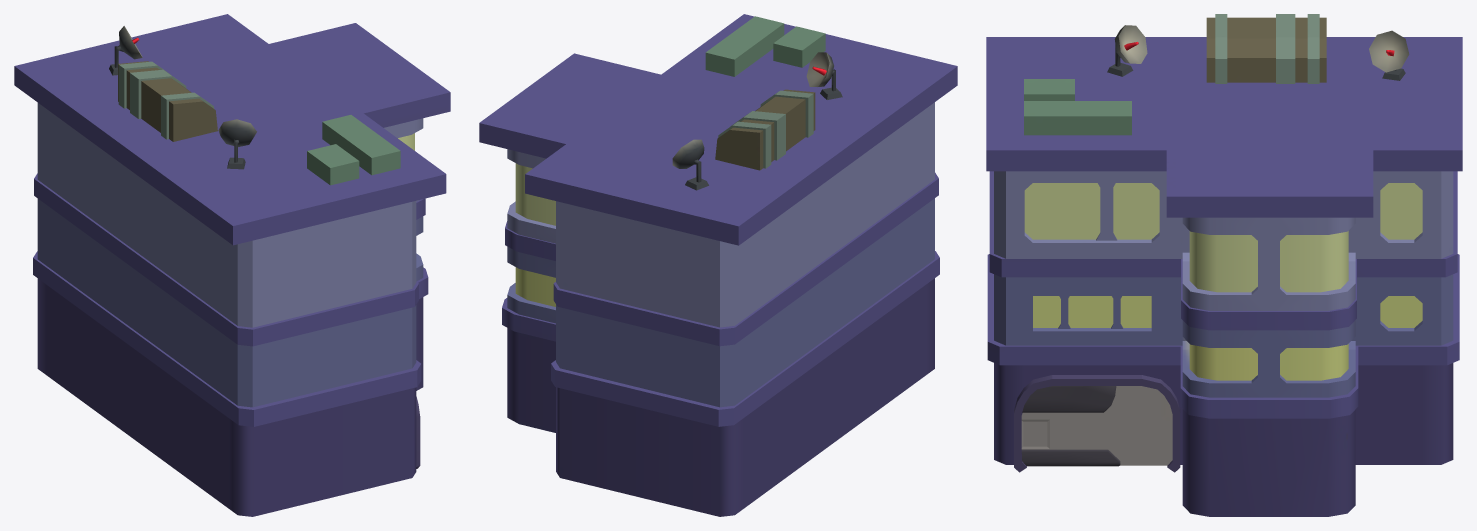
File: NorthEast_House_01.fbx
3 renders of one model, left to right at view 1: azimuth 30°, elevation 25°; view 2: azimuth 150°, elevation 25°; view 3: azimuth 270°, elevation 25°, orthographic. The views are drawn at different scales.
Parts seen in each view (by area): view 1: NorthEast_House_01; view 2: NorthEast_House_01; view 3: NorthEast_House_01.
Part boxes in pixels (x1,y1,x2,y2): NorthEast_House_01: (14, 14, 450, 516); NorthEast_House_01: (479, 14, 957, 516); NorthEast_House_01: (986, 14, 1462, 516).
Size of the model in its own units: 24.5 by 27 by 30.9.
Materials: 2 (2 with a texture image).
